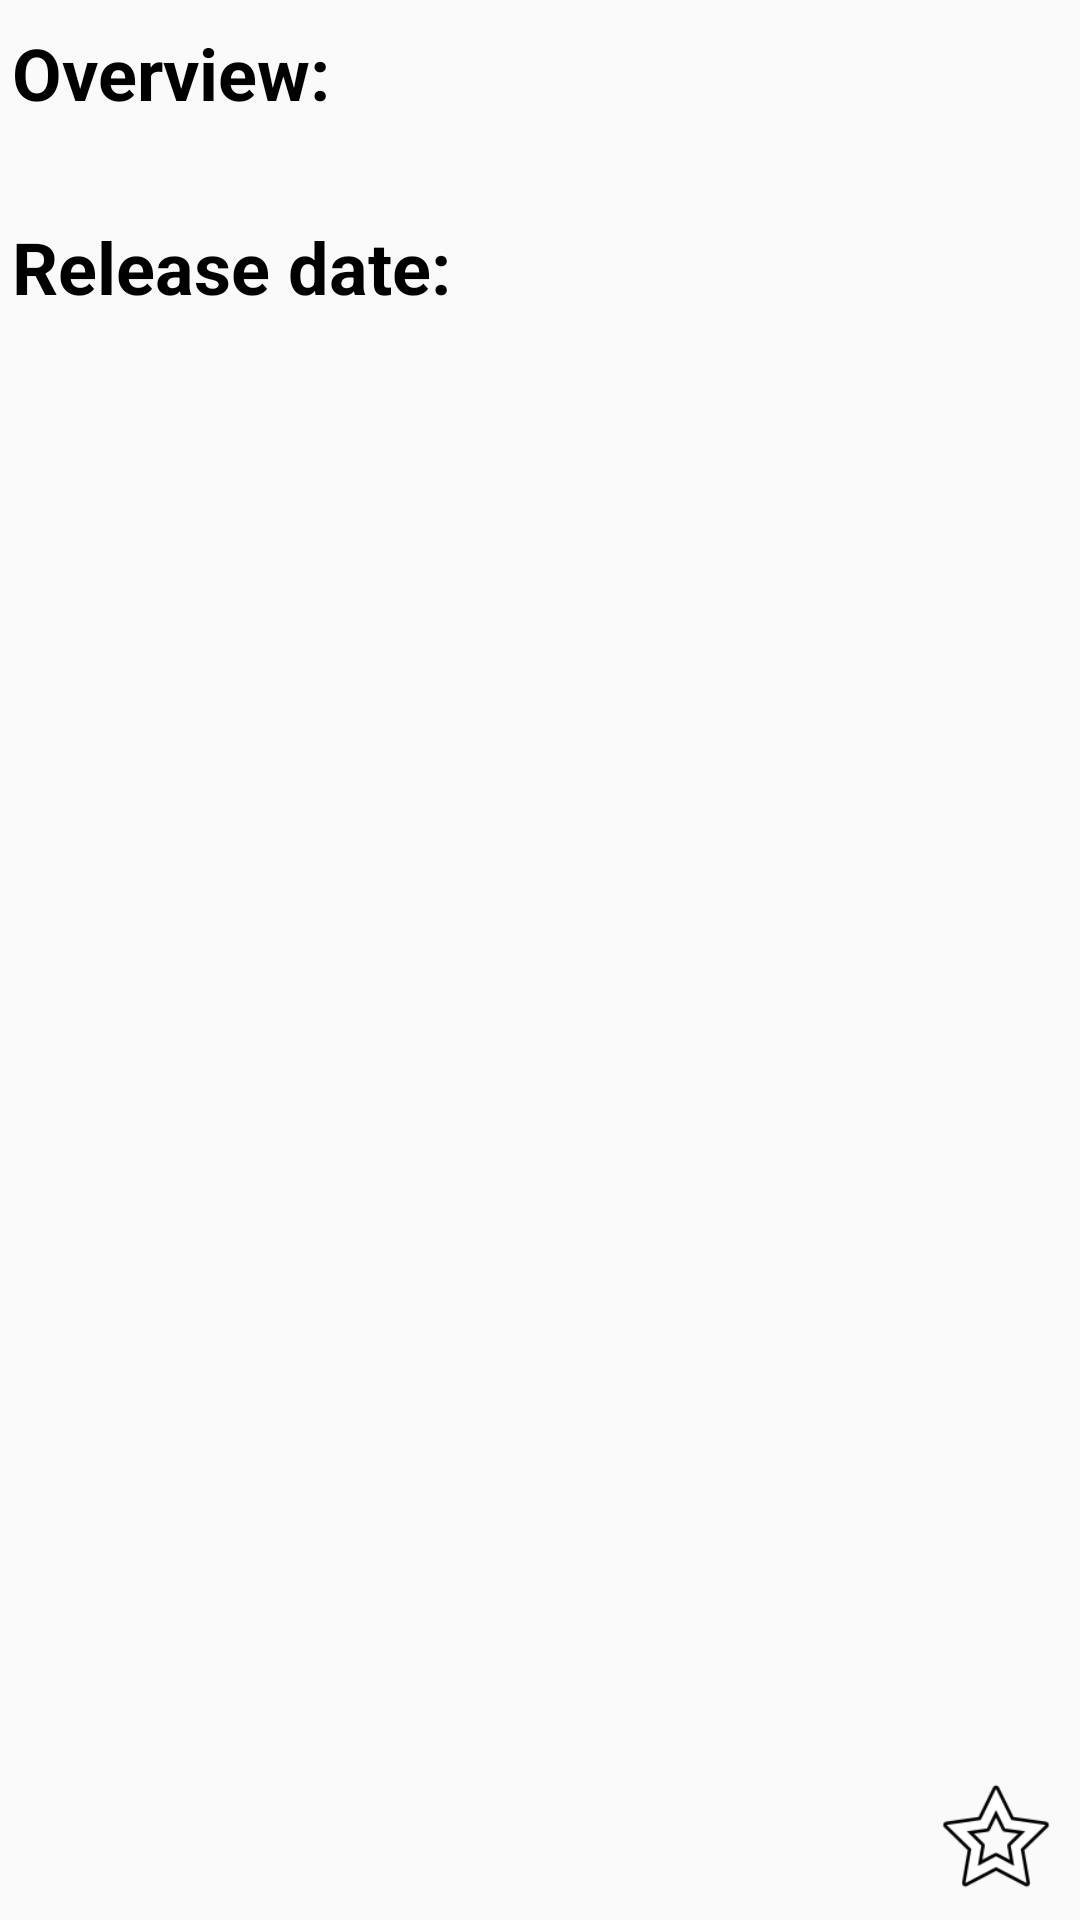

Named icons in this screenshot (1080*1920) and their bounding boxes, (x1, y1, x2, y2):
star: (943, 1785, 1050, 1887)
